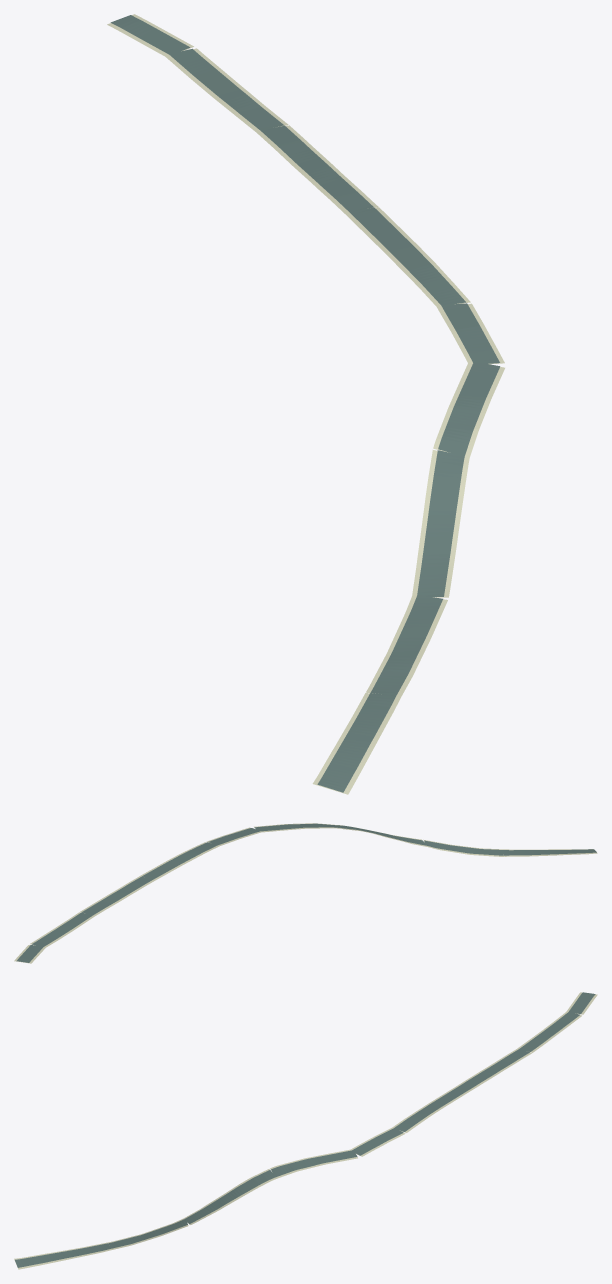
The model's file is Road_05.glb.
The picture shows the model from 3 angles, top to bottom: view 1: azimuth 30°, elevation 25°; view 2: azimuth 150°, elevation 25°; view 3: azimuth 330°, elevation 25°; orthographic projection. The views are drawn at different scales.
Parts seen in each view (by area): view 1: Road_05; view 2: Road_05; view 3: Road_05.
Boxes of the visible parts, x1,y1,x2,y2 form: Road_05: (107, 14, 504, 794); Road_05: (14, 823, 597, 963); Road_05: (14, 992, 597, 1269).
Bounding box in the file's own units: 76.07 × 23.28 × 177.
